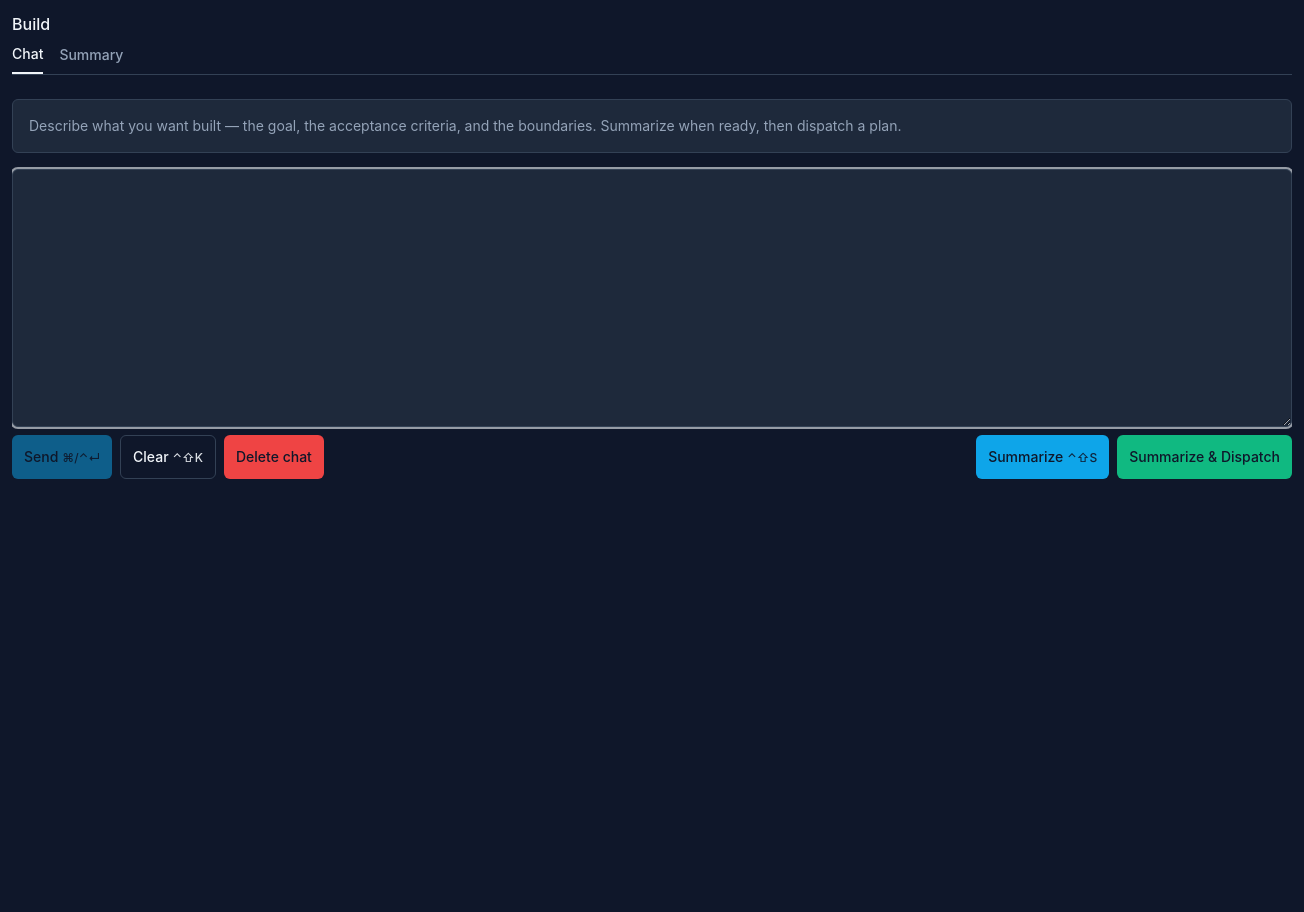
it: BuildChat › Roadmap item dispatch stamp › shows no roadmap-item provenance line when the URL carries no roadmapItem and no project is bound
Click the button with test id "summarize-button" at [1043, 457], box [976,435,1109,479]
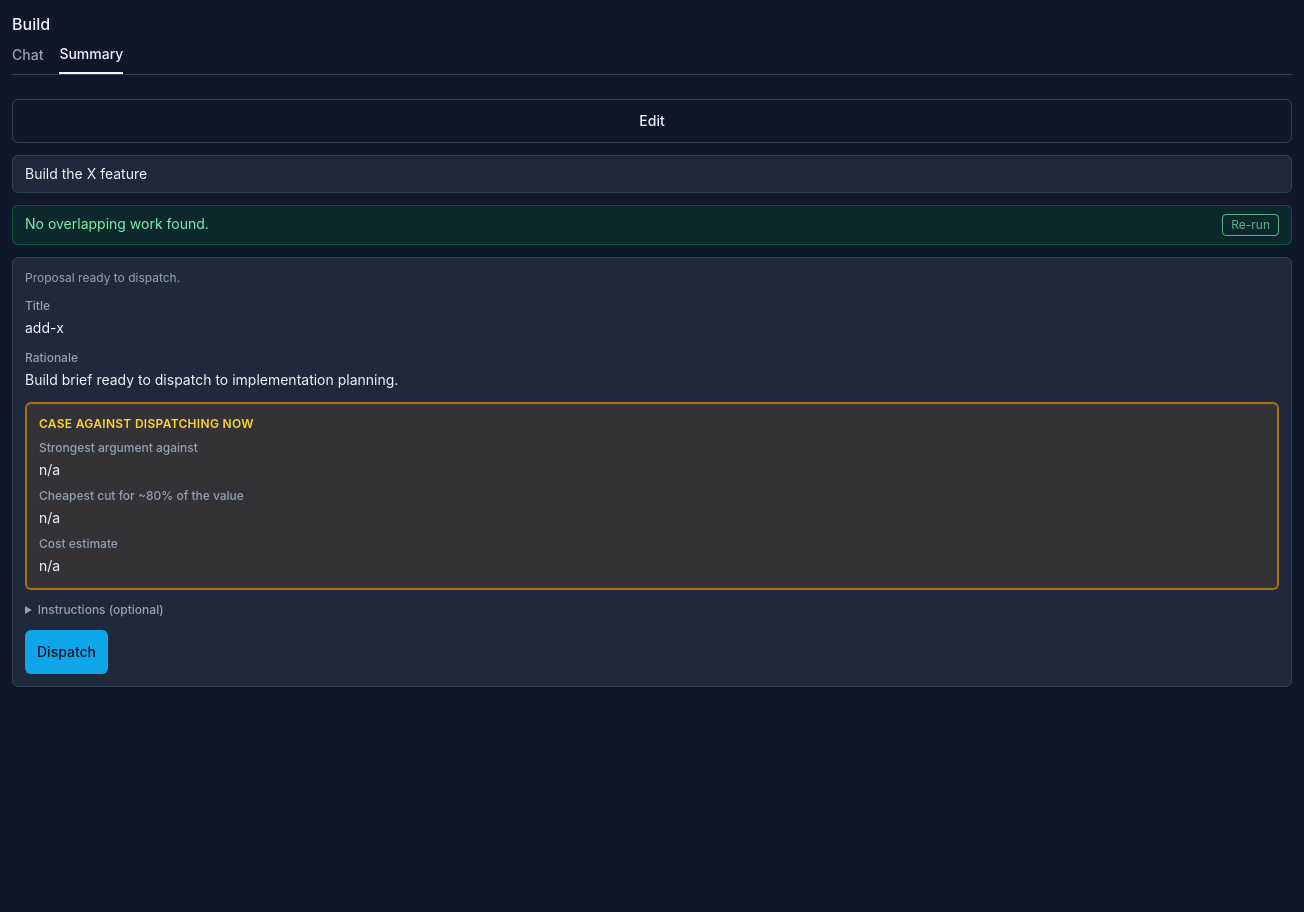
Now the button with test id "dispatch-proposal-confirm" is shown, box [25,630,108,674]
